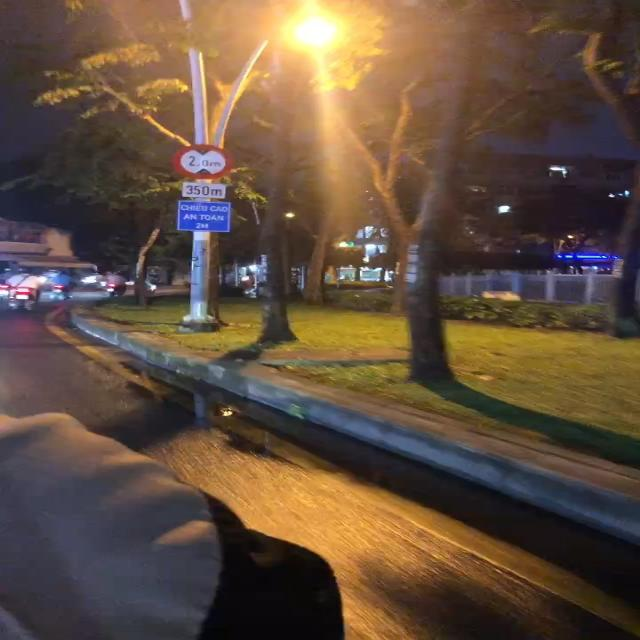Bien bao han che chieu cao: (169, 141, 234, 181)
